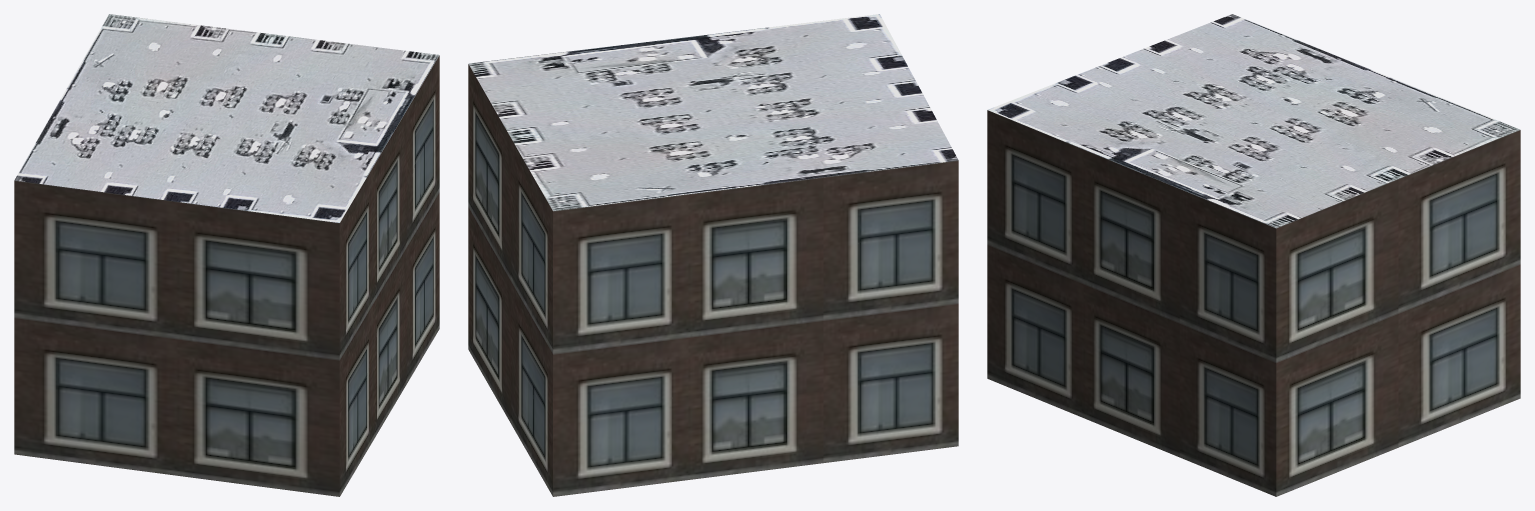
File: ResTex__3508.fbx
3 views of the same model, side by side, from view 1: azimuth 30°, elevation 25°; view 2: azimuth 150°, elevation 25°; view 3: azimuth 270°, elevation 25° (orthographic). The views are drawn at different scales.
Parts seen in each view (by area): view 1: CityEngineMaterial_16_m, CityEngineMaterial_15_m; view 2: CityEngineMaterial_16_m, CityEngineMaterial_15_m; view 3: CityEngineMaterial_16_m, CityEngineMaterial_15_m.
Part boxes in pixels (x1,y1,x2,y2): CityEngineMaterial_16_m: (14, 55, 439, 496); CityEngineMaterial_15_m: (14, 14, 439, 222); CityEngineMaterial_16_m: (468, 64, 958, 496); CityEngineMaterial_15_m: (468, 14, 958, 210); CityEngineMaterial_16_m: (987, 110, 1520, 496); CityEngineMaterial_15_m: (988, 14, 1520, 228).
Bounding box in the file's own units: 10.26 × 6 × 10.8.
2 materials, 2 textured.
